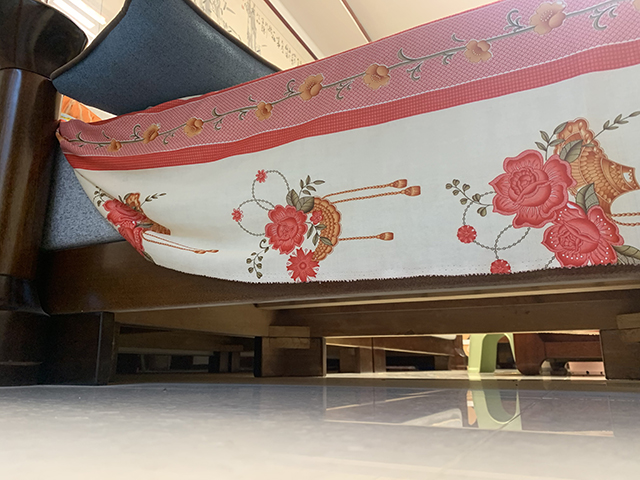sofa: (1, 1, 638, 385)
